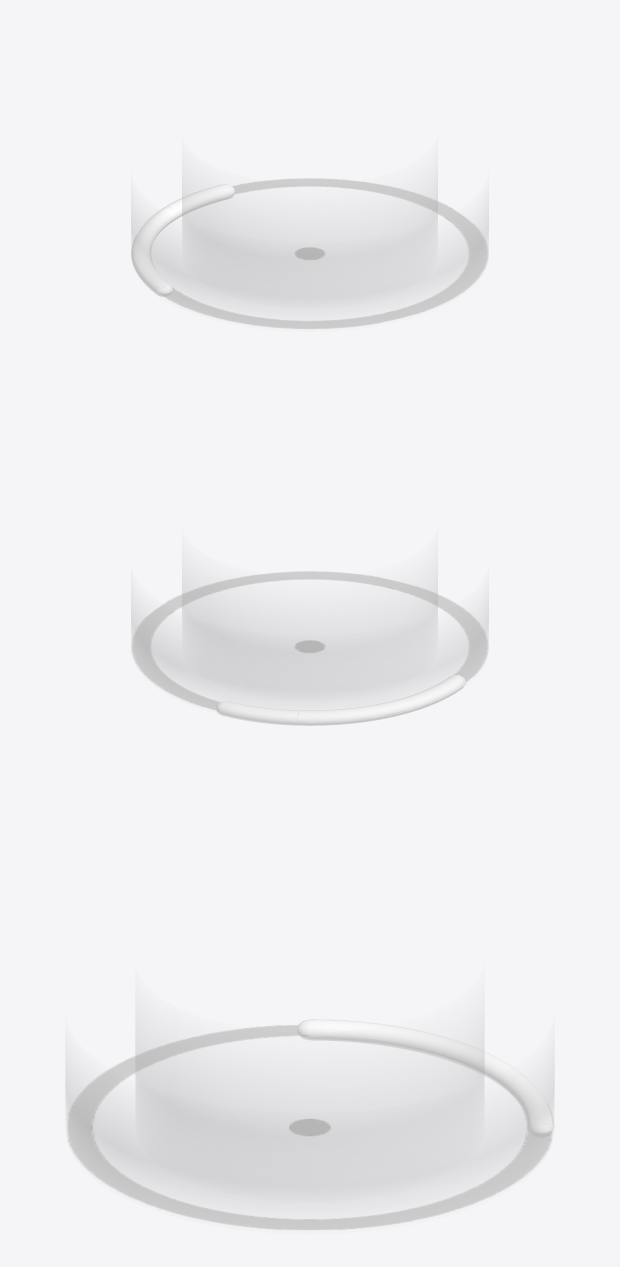
File: TeleportArea.glb
3 views of the same model, one above another, from view 1: azimuth 30°, elevation 25°; view 2: azimuth 150°, elevation 25°; view 3: azimuth 270°, elevation 25° (orthographic). The views are drawn at different scales.
Visible parts, largest first — view 1: PointerArea; view 2: PointerArea; view 3: PointerArea.
Part boxes in pixels (bbox=[...]): PointerArea: bbox=[131, 162, 488, 328]; PointerArea: bbox=[131, 555, 488, 725]; PointerArea: bbox=[65, 1006, 554, 1230].
Bounding box in the file's own units: 2 × 0.9843 × 2.
1 material, 1 textured.
